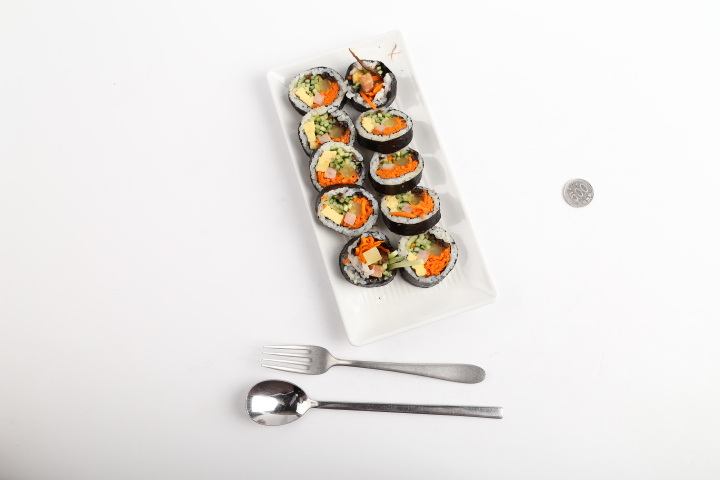dish: (264, 34, 498, 346)
ref_coin: (562, 178, 594, 207)
ref_fork: (261, 344, 338, 375)
ref_spoon: (247, 379, 320, 426)
김밥: (287, 59, 459, 288)
